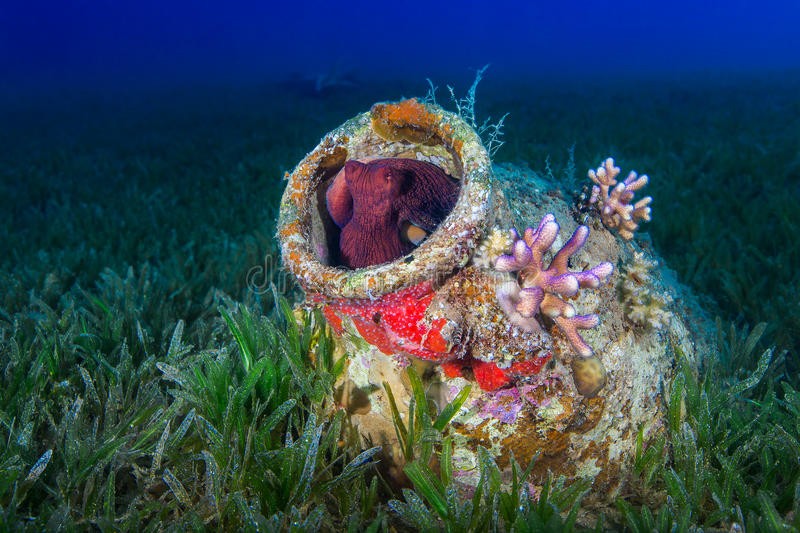amphora: (264, 92, 719, 495)
